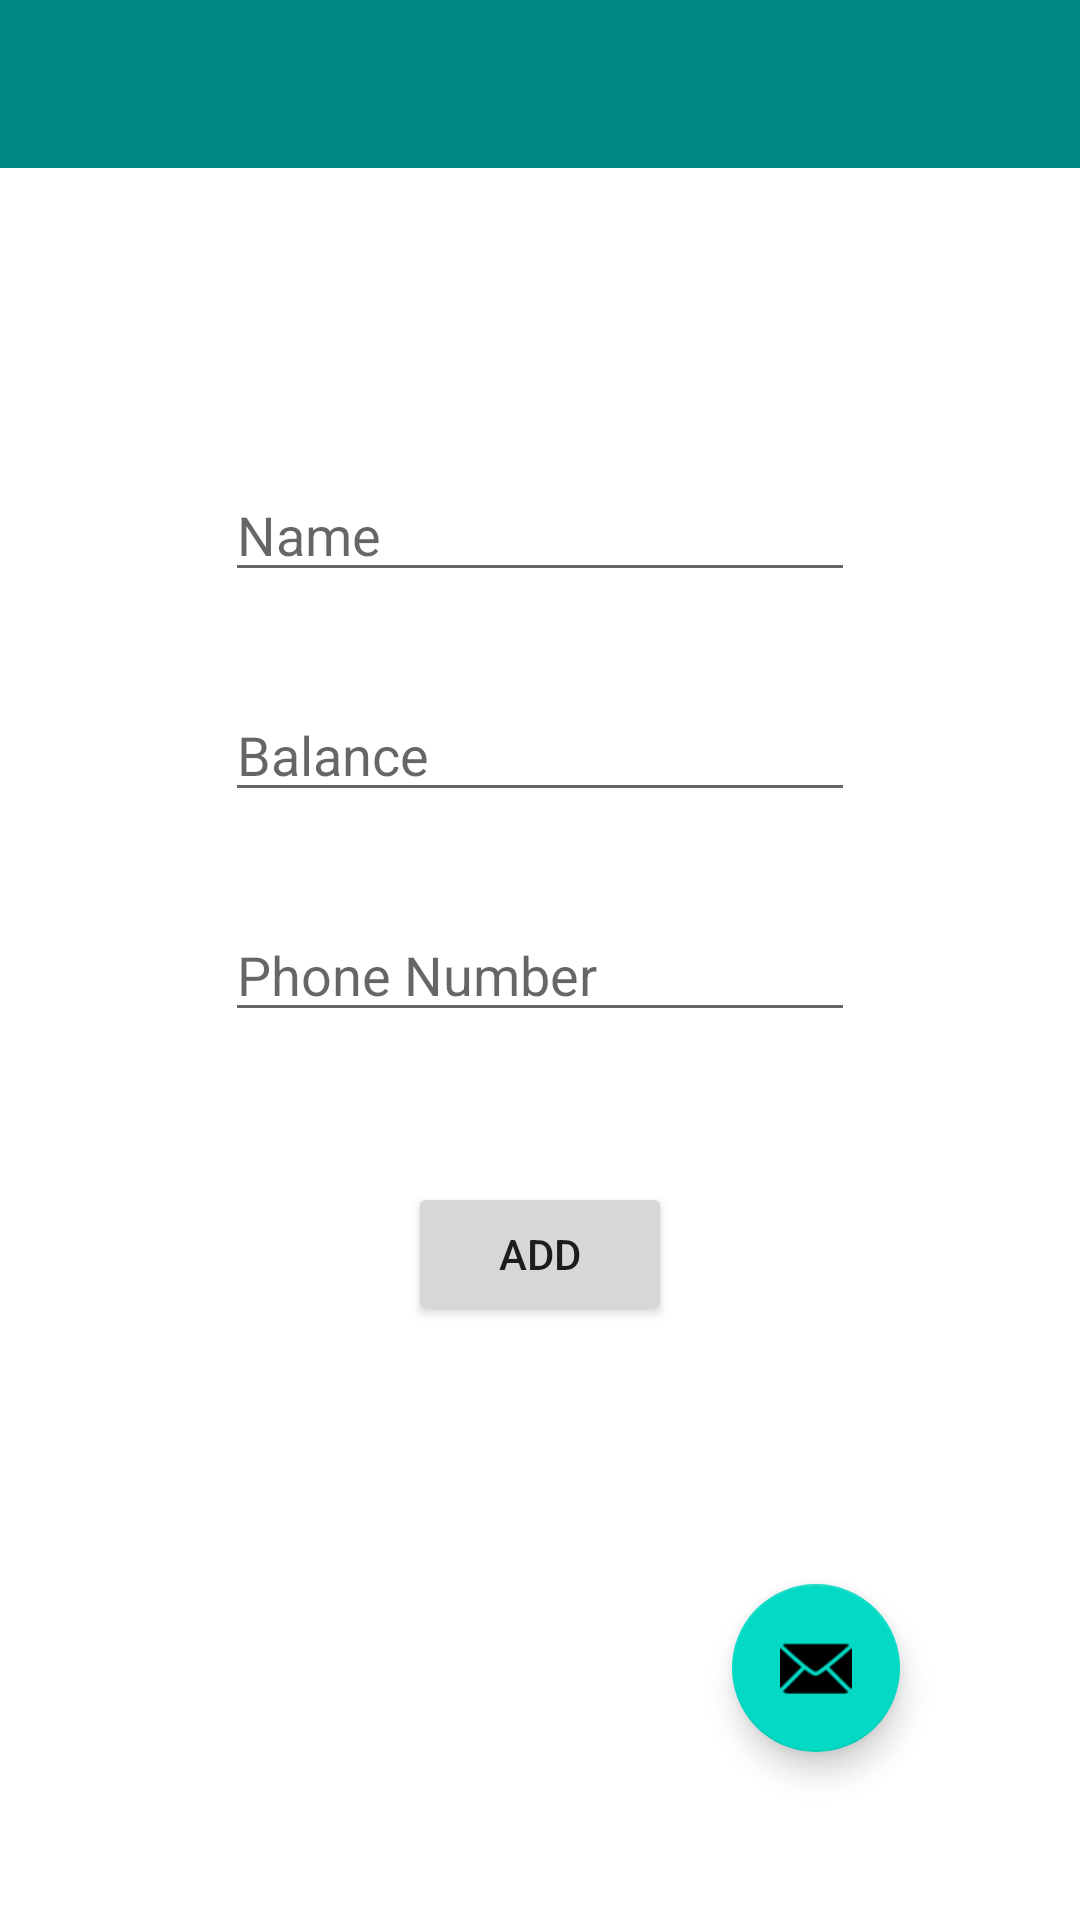

Where icons sit on this 1080x1920 app screen, as (x1, y1, x2, y2):
email: (732, 1584, 900, 1752)
